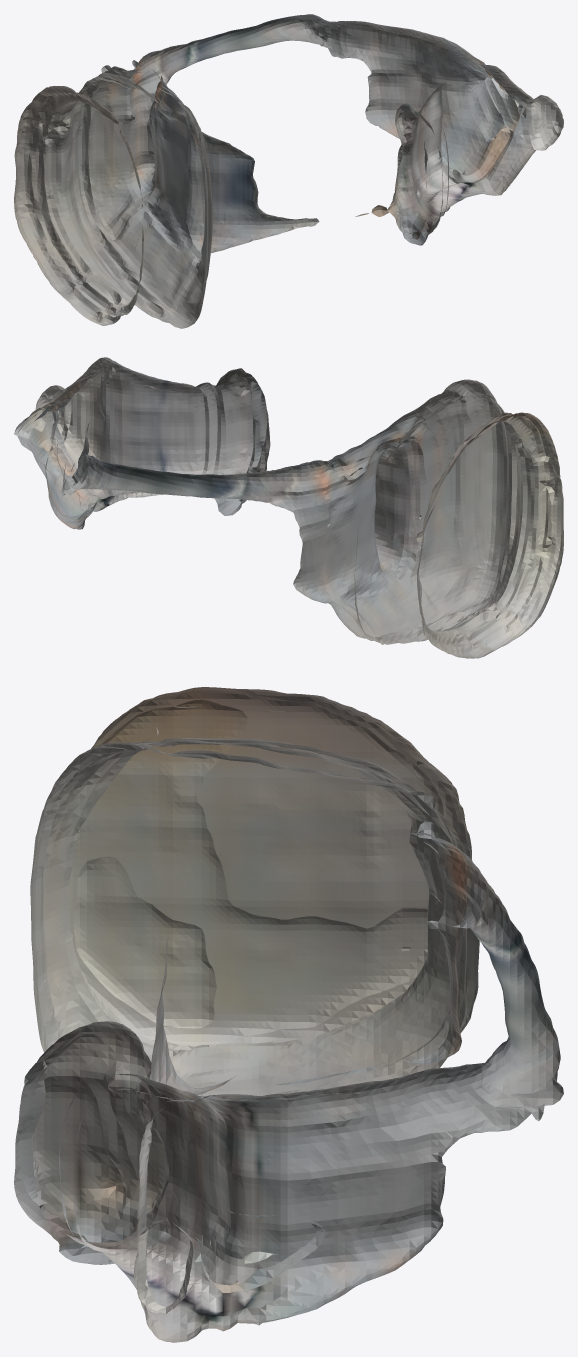
Rendered from bishop.glb.
3 renders of one model, top to bottom at view 1: azimuth 30°, elevation 25°; view 2: azimuth 150°, elevation 25°; view 3: azimuth 270°, elevation 25°, orthographic. The views are drawn at different scales.
Parts seen in each view (by area): view 1: world; view 2: world; view 3: world.
Part boxes in pixels (x1,y1,x2,y2): world: [14, 14, 563, 328]; world: [14, 357, 563, 658]; world: [14, 687, 563, 1342].
Bounding box in the file's own units: 0.9209 × 0.3967 × 0.5234.
